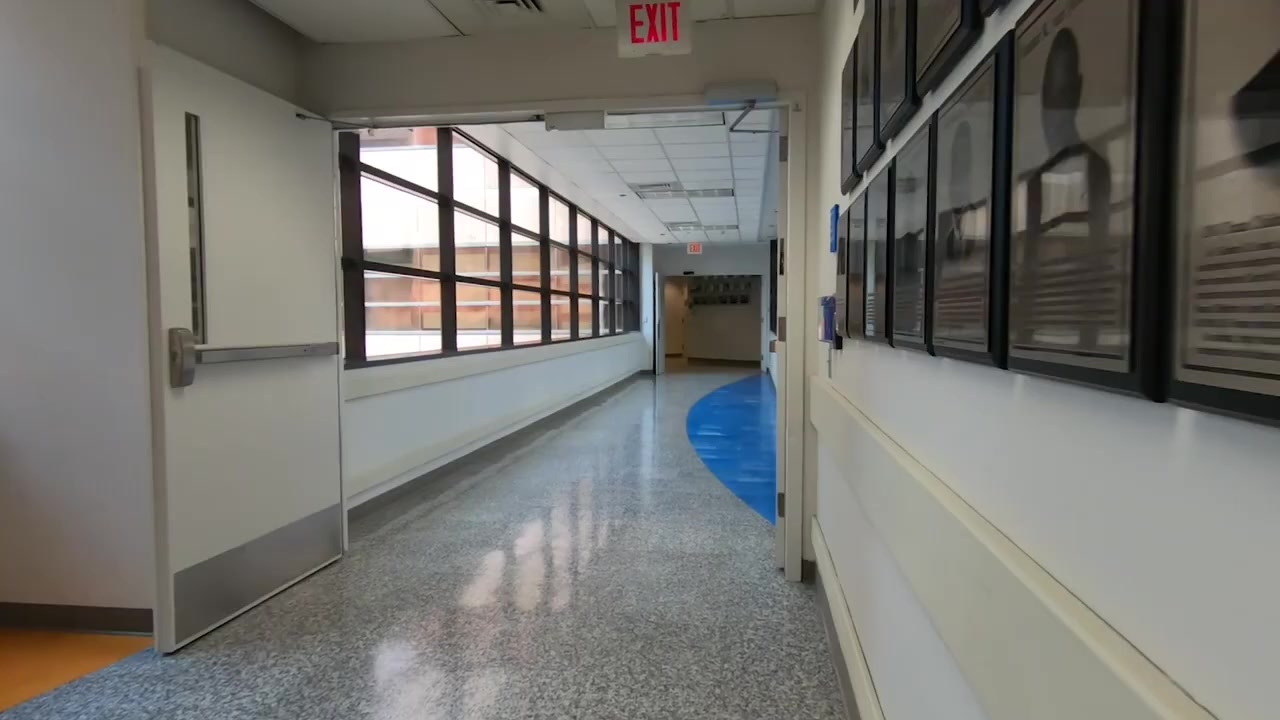push_latch: (169, 324, 341, 389)
